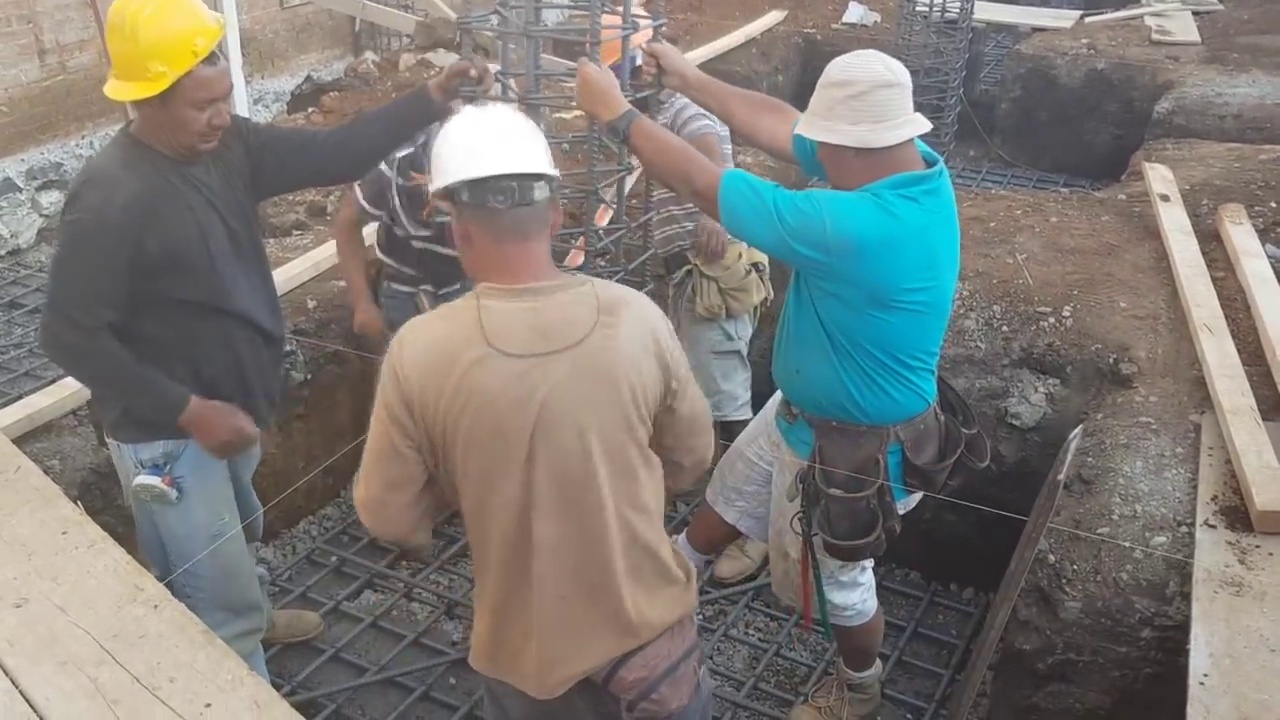helmet: (420, 105, 568, 203), (93, 5, 225, 103), (586, 6, 656, 75)
helmet-off: (790, 53, 937, 192)
helmet-on: (416, 98, 569, 304), (90, 3, 238, 173), (591, 7, 659, 113)
person: (631, 27, 995, 720), (39, 3, 415, 670), (353, 99, 737, 720), (591, 27, 776, 587), (324, 88, 469, 366)
